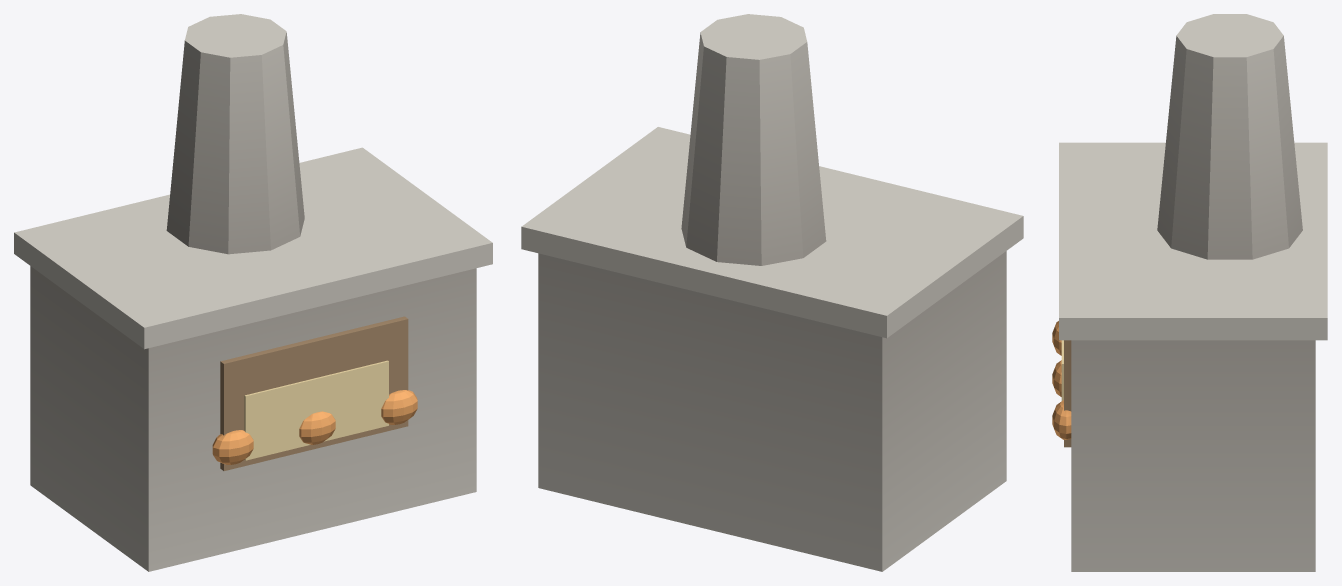
Rendered from VForge.fbx.
The picture shows the model from 3 angles, left to right: view 1: azimuth 30°, elevation 25°; view 2: azimuth 150°, elevation 25°; view 3: azimuth 270°, elevation 25°; orthographic projection. The views are drawn at different scales.
Parts seen in each view (by area): view 1: VForge; view 2: VForge; view 3: VForge.
Boxes of the visible parts, x1=… form: VForge: x1=14, y1=14, x2=492, y2=571; VForge: x1=521, y1=14, x2=1023, y2=571; VForge: x1=1052, y1=14, x2=1327, y2=571.
Bounding box in the file's own units: 1.7 × 2.05 × 1.13.
